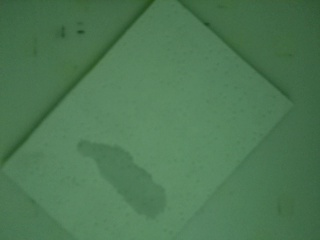Water_detected: (98, 153, 164, 213)
